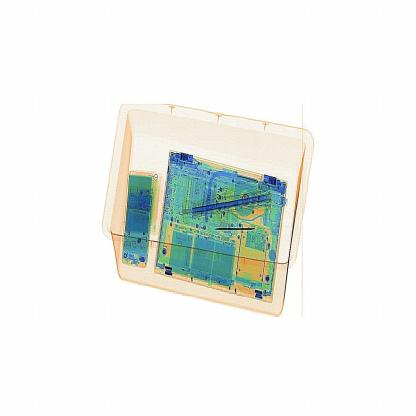wrench: (207, 221, 268, 240)
